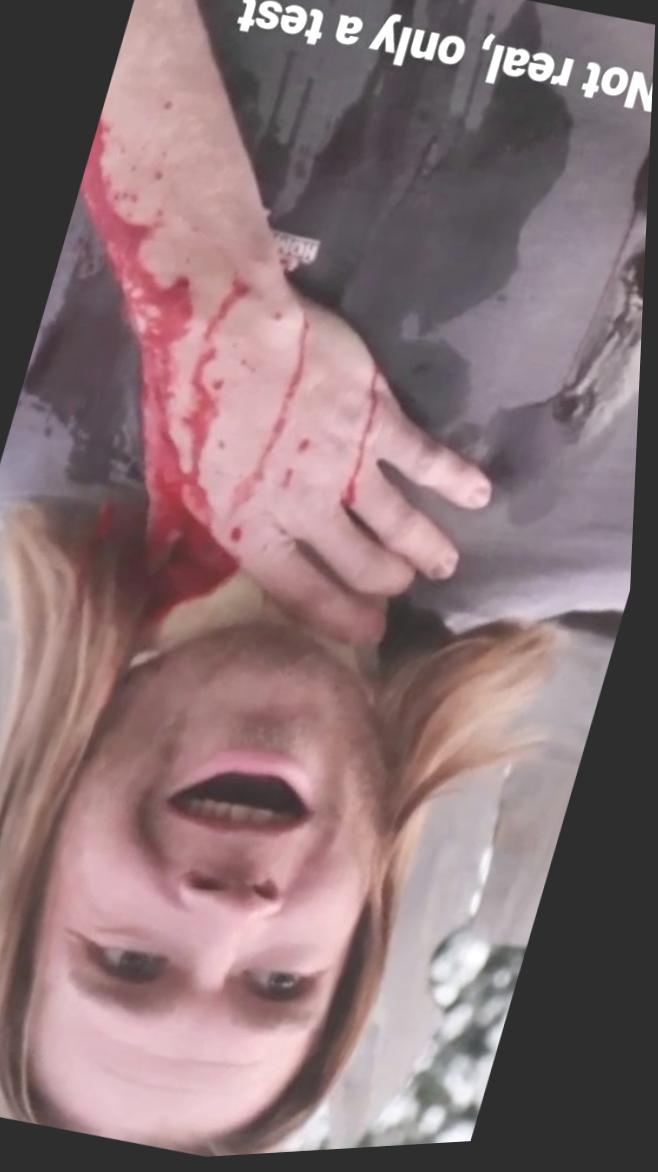Fire: (25, 111, 251, 627), (231, 299, 347, 567), (345, 360, 399, 516)
